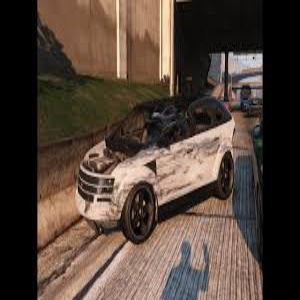door_scratch: (155, 141, 216, 196)
